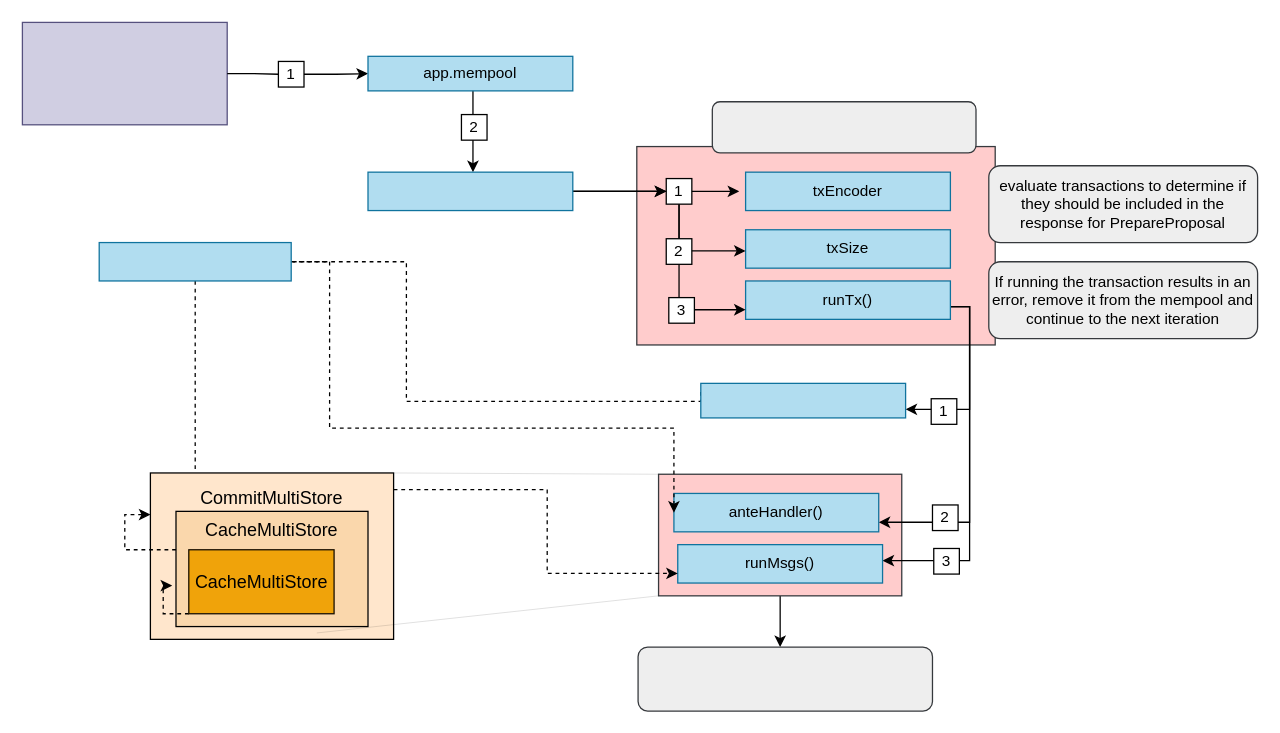
Image size: 1280x733. Some labels were removed from this diagram. Here are the shapes that lost their labels. From the top down, the centre of each, then its label:
At [124,73]: "PrepareProposal".
At [843,126]: "iterate over these transactions and evaluate the following".
At [470,191]: "Select(req.Txs)".
At [194,261]: "cacheTxContext".
At [803,400]: "getContextForTx()".
At [784,678]: "Return transactions in the form of abci.ResponsePrepareProposal".
